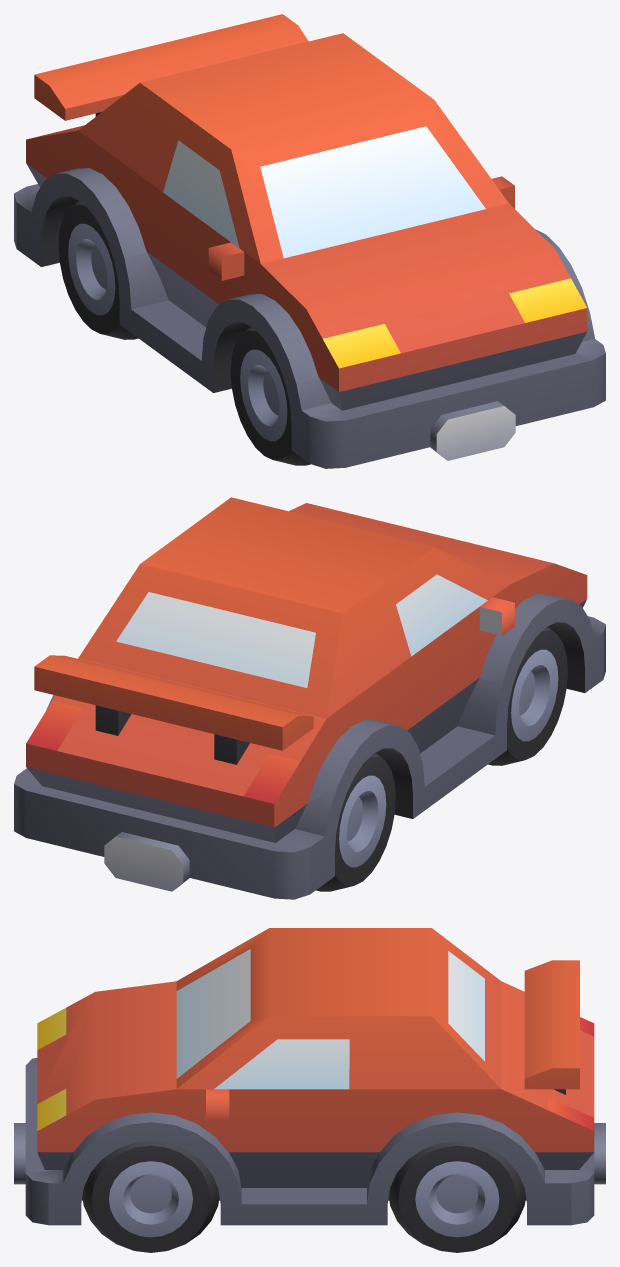
File: sedan-sports.glb
3 views of the same model, one above another, from view 1: azimuth 30°, elevation 25°; view 2: azimuth 150°, elevation 25°; view 3: azimuth 270°, elevation 25° (orthographic). The views are drawn at different scales.
Visible parts, largest first — view 1: body, spoiler, wheel-back-right, wheel-front-right; view 2: body, spoiler, wheel-back-right, wheel-front-right; view 3: body, wheel-back-left, wheel-front-left, spoiler.
Boxes of the visible parts, <box> form: body: <box>14,33,605,468</box>; spoiler: <box>34,14,308,120</box>; wheel-back-right: <box>58,200,138,339</box>; wheel-front-right: <box>230,326,310,465</box>; body: <box>14,497,605,899</box>; spoiler: <box>34,655,313,764</box>; wheel-back-right: <box>316,752,395,891</box>; wheel-front-right: <box>488,626,567,765</box>; body: <box>14,928,605,1225</box>; wheel-back-left: <box>389,1141,525,1252</box>; wheel-front-left: <box>82,1141,219,1252</box>; spoiler: <box>524,960,579,1094</box>.
Size of the model in its own units: 1.3 by 1.1 by 2.55.
1 material, 1 textured.
